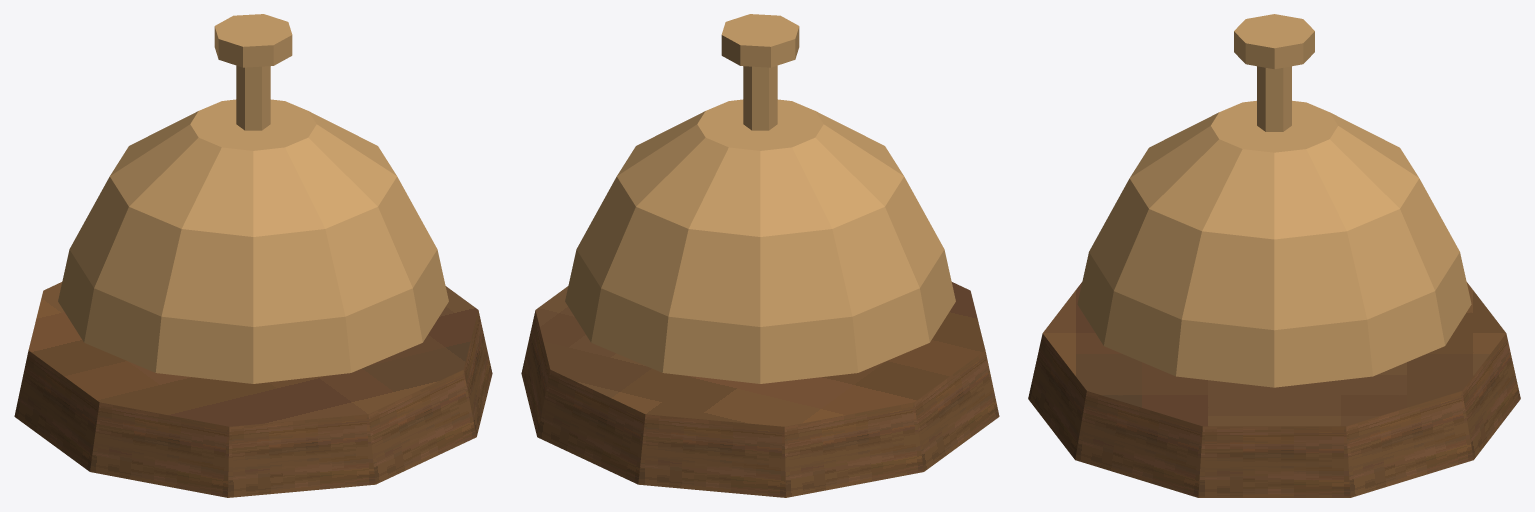
File: desk_bell.glb
3 renders of one model, left to right at view 1: azimuth 30°, elevation 25°; view 2: azimuth 150°, elevation 25°; view 3: azimuth 270°, elevation 25°, orthographic.
Visible parts, largest first — view 1: bell, desk_bell, plunger; view 2: bell, desk_bell, plunger; view 3: bell, desk_bell, plunger.
Part boxes in pixels (<box>): bell: <box>58,99,448,383</box>; desk_bell: <box>14,282,492,497</box>; plunger: <box>214,14,292,130</box>; bell: <box>565,99,955,383</box>; desk_bell: <box>521,282,999,497</box>; plunger: <box>721,14,799,130</box>; bell: <box>1077,100,1471,387</box>; desk_bell: <box>1028,282,1520,497</box>; plunger: <box>1234,14,1314,131</box>.
Size of the model in its own units: 0.1617 by 0.14 by 0.17.
2 materials, 1 textured.
